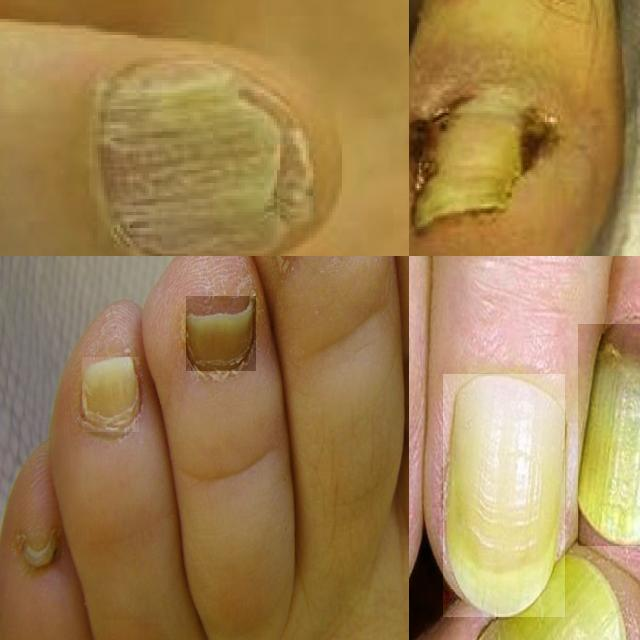diabetes: (98, 56, 311, 256), (443, 374, 565, 617), (412, 84, 562, 230), (579, 325, 640, 546), (478, 553, 625, 640), (187, 296, 256, 371), (82, 358, 139, 432), (23, 532, 61, 567)
